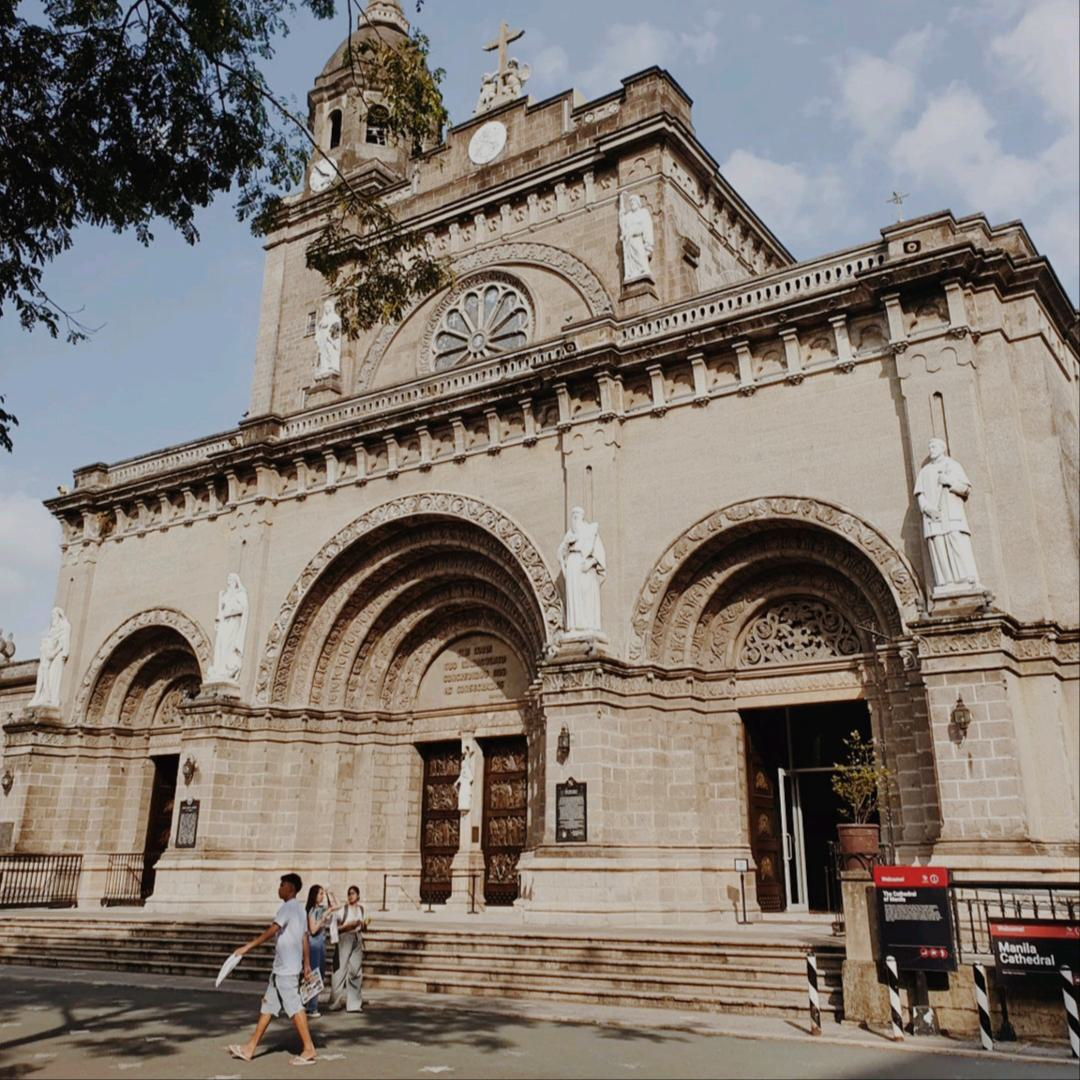manila_cathedral_church_intramuros_manila: (6, 4, 1080, 944)
